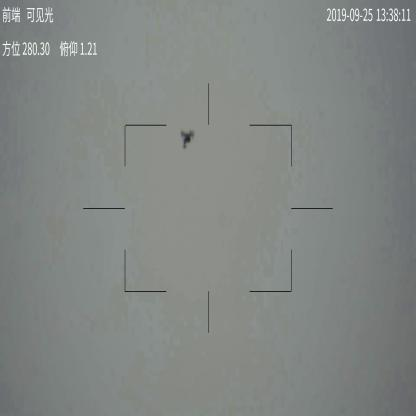uav: (180, 127, 194, 148)
